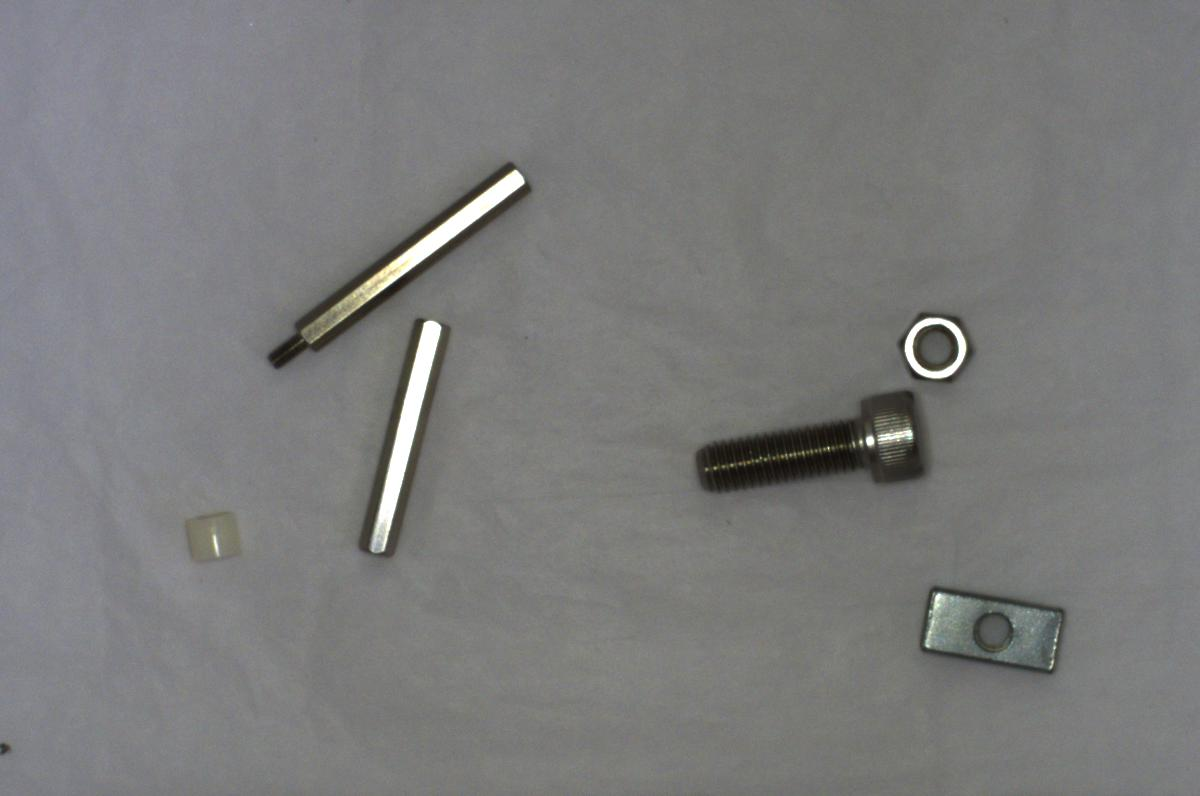Double hexagonal column: (357, 316, 457, 562)
Hexagon nut: (890, 308, 977, 387)
Hexagon screw: (688, 379, 932, 505)
Hexagonal steel column: (262, 158, 534, 380)
Plastic cushion pillar: (178, 503, 244, 567)
Rectangular nut: (911, 578, 1070, 682)
